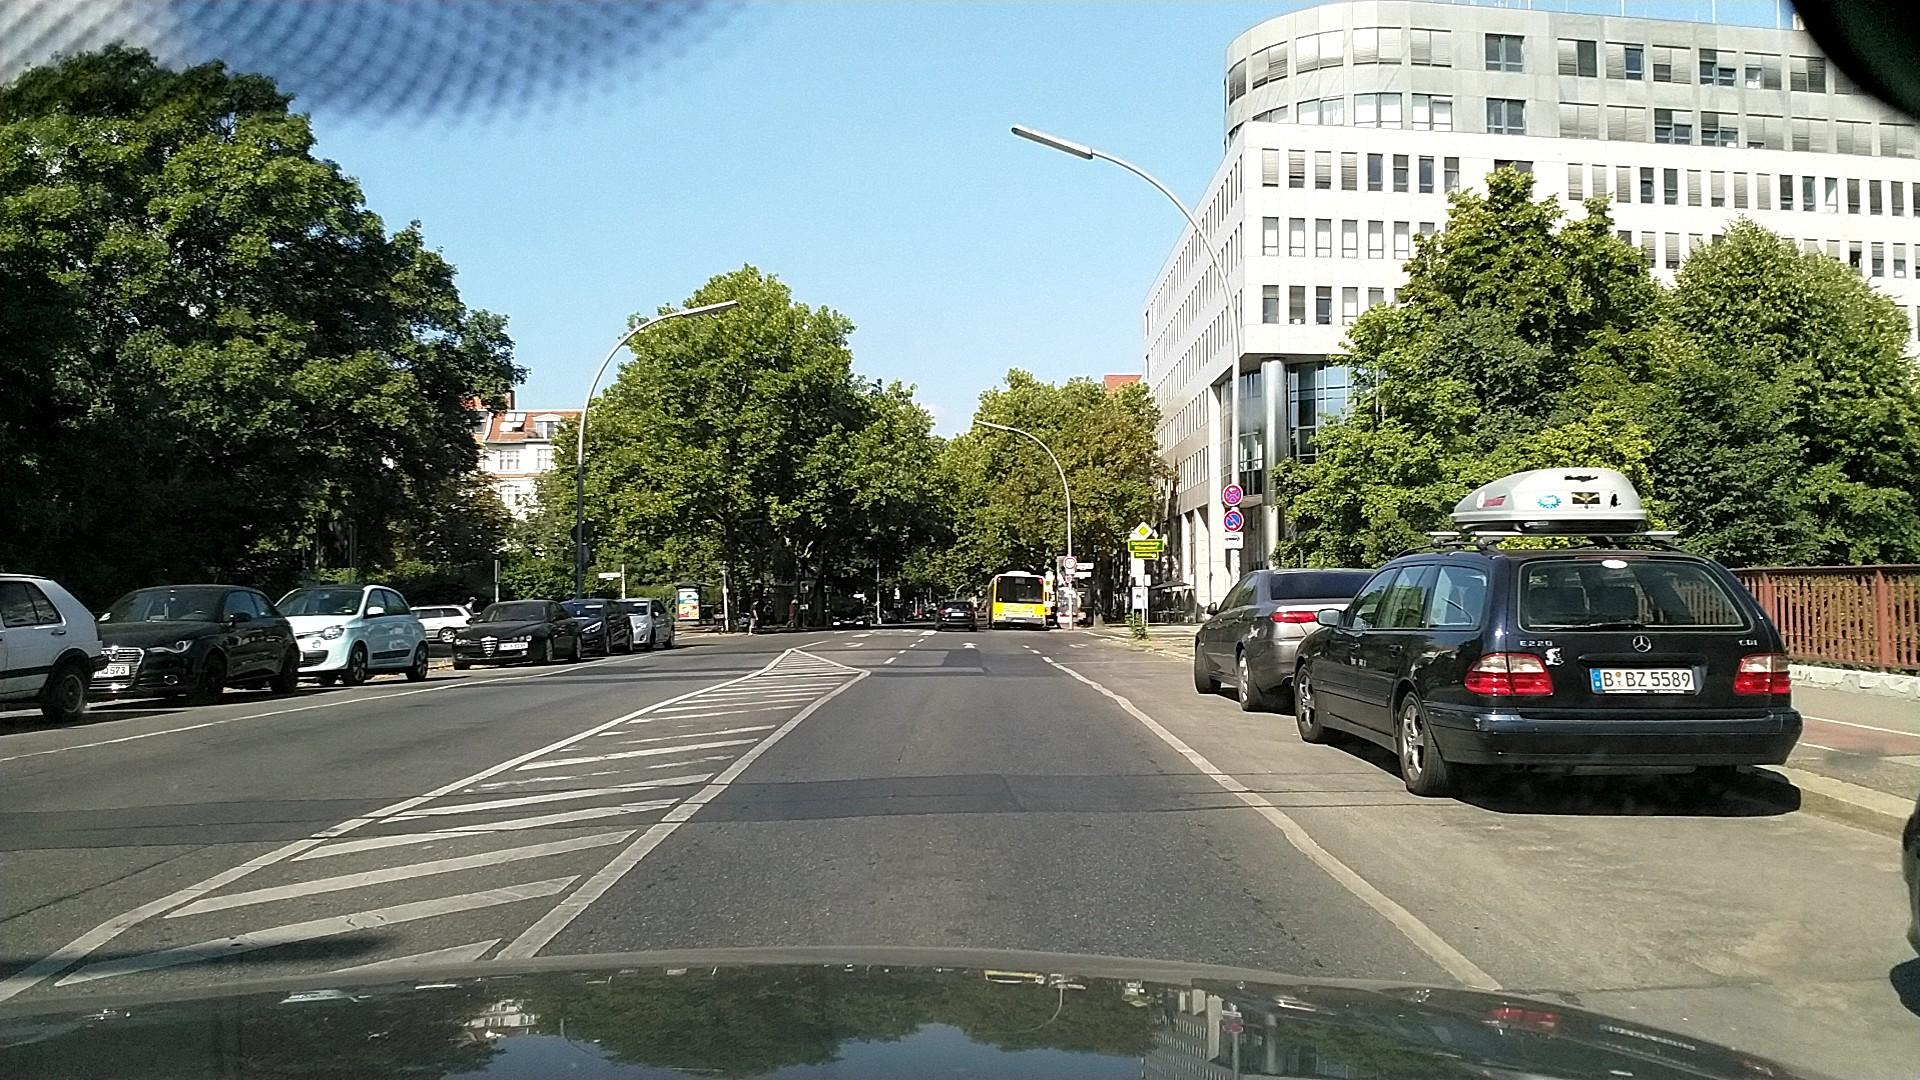Vehicle registration plate: (1589, 667, 1695, 692), (92, 665, 130, 677), (497, 643, 528, 650)
